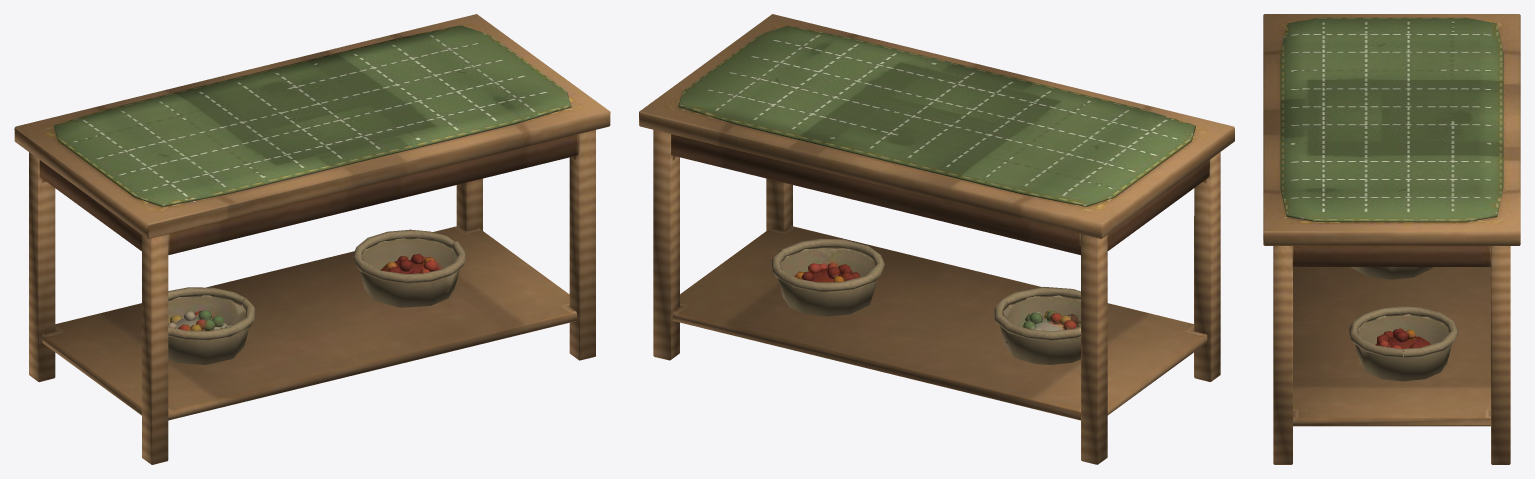
The model's file is work_table_moss.glb.
3 views of the same model, side by side, from view 1: azimuth 30°, elevation 25°; view 2: azimuth 150°, elevation 25°; view 3: azimuth 270°, elevation 25° (orthographic). The views are drawn at different scales.
Parts seen in each view (by area): view 1: prop_work_table_moss_wood, prop_work_table_moss_felt; view 2: prop_work_table_moss_wood, prop_work_table_moss_felt; view 3: prop_work_table_moss_wood, prop_work_table_moss_felt.
Part boxes in pixels (box(x1,y1,x2,y2)): prop_work_table_moss_wood: box(14, 14, 610, 464); prop_work_table_moss_felt: box(53, 25, 571, 364); prop_work_table_moss_wood: box(639, 14, 1234, 464); prop_work_table_moss_felt: box(678, 25, 1195, 364); prop_work_table_moss_wood: box(1263, 14, 1520, 464); prop_work_table_moss_felt: box(1280, 17, 1503, 381).
Bounding box in the file's own units: 1.8 × 0.937 × 0.8991.
Materials: 2 (2 with a texture image).
